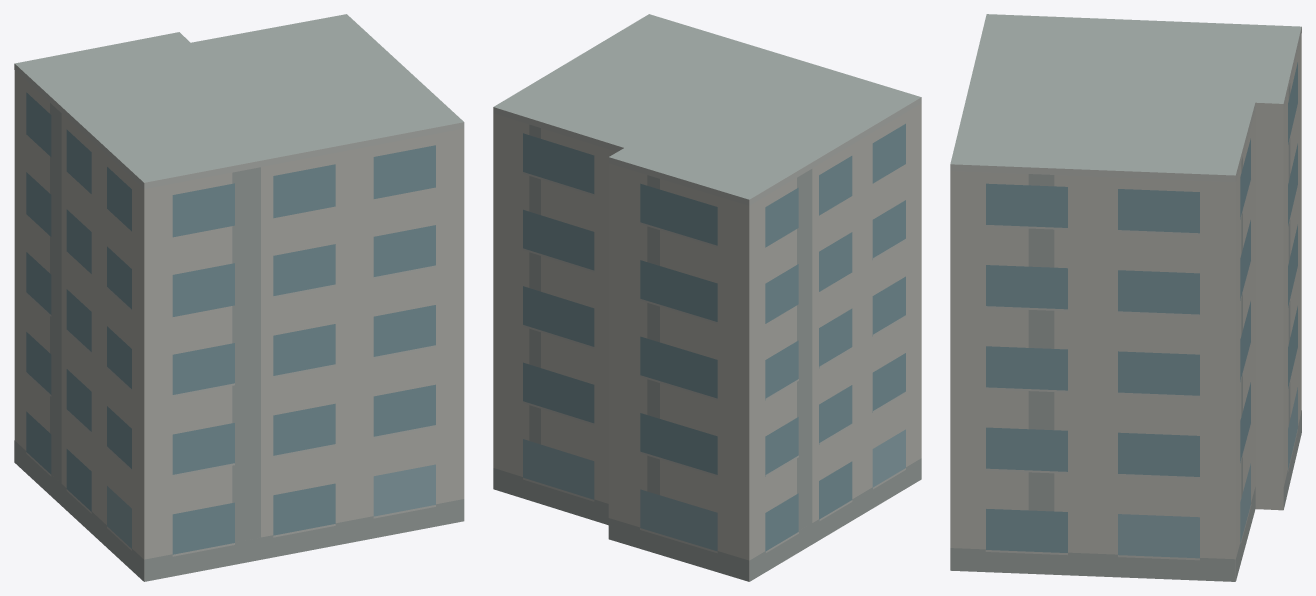
Rendered from survey-upis-32922207.glb.
The picture shows the model from 3 angles, left to right: view 1: azimuth 30°, elevation 25°; view 2: azimuth 150°, elevation 25°; view 3: azimuth 270°, elevation 25°; orthographic projection. The views are drawn at different scales.
Parts seen in each view (by area): view 1: survey-upis-32922207.tmp; view 2: survey-upis-32922207.tmp; view 3: survey-upis-32922207.tmp.
Boxes of the visible parts, x1,y1,x2,y2 form: survey-upis-32922207.tmp: (14, 14, 464, 581); survey-upis-32922207.tmp: (493, 14, 921, 581); survey-upis-32922207.tmp: (950, 14, 1301, 581).
Bounding box in the file's own units: 12.79 × 15 × 11.77.
